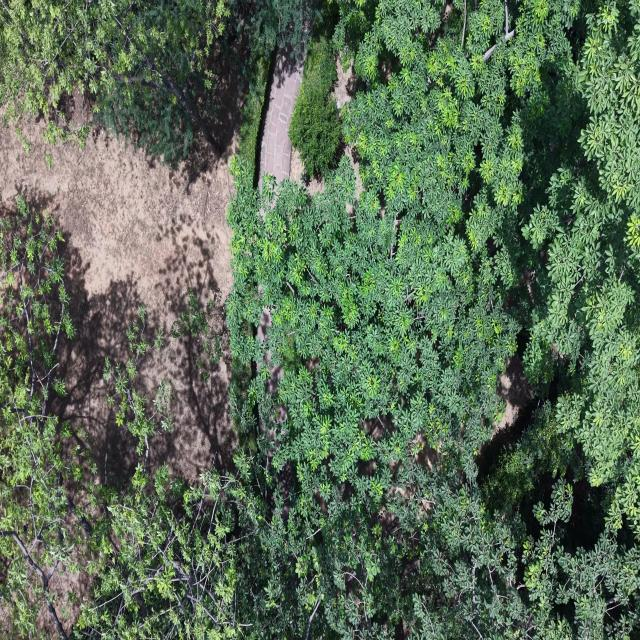DRY_AREA: (0, 81, 238, 485), (0, 105, 238, 485), (0, 118, 237, 484), (0, 115, 237, 480), (0, 122, 236, 483), (0, 123, 235, 481), (0, 127, 232, 309), (260, 50, 324, 195), (476, 353, 538, 479), (259, 48, 303, 189), (259, 49, 303, 189), (260, 48, 303, 188), (260, 49, 303, 188), (260, 50, 303, 186), (261, 50, 304, 184), (261, 50, 303, 182), (492, 355, 531, 443), (494, 354, 532, 436), (494, 356, 531, 436), (494, 355, 531, 434), (494, 356, 531, 435), (494, 357, 530, 434), (334, 58, 356, 108), (290, 149, 304, 182)
VEGETATION_TREE: (0, 0, 639, 639), (228, 2, 639, 637), (228, 158, 517, 637), (0, 197, 258, 639), (523, 3, 639, 535), (74, 307, 257, 639), (0, 0, 312, 163), (0, 197, 92, 639), (0, 0, 229, 154), (75, 466, 242, 639), (482, 402, 576, 512), (96, 86, 195, 165), (289, 37, 342, 177), (234, 0, 316, 59), (171, 289, 223, 380)
